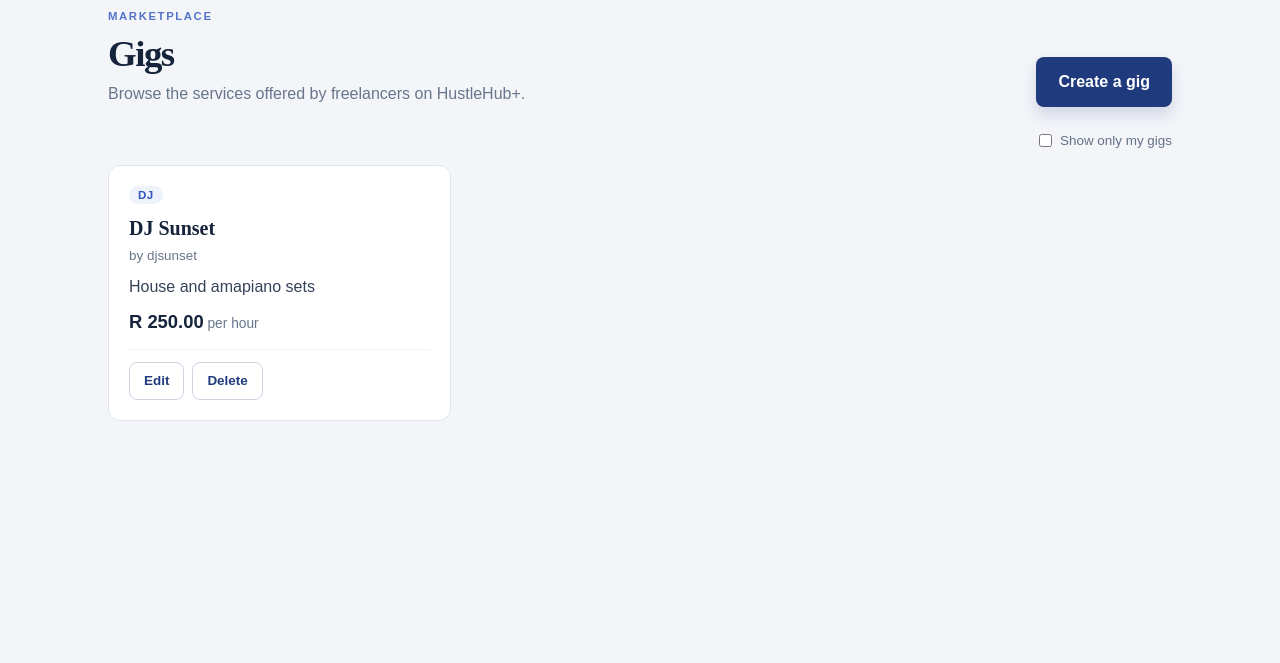
Test: GigsPage › edits a gig with every field the API requires
Click the button with aria-label "Edit DJ Sunset".
click(157, 381)  # box 129,362 -> 184,400
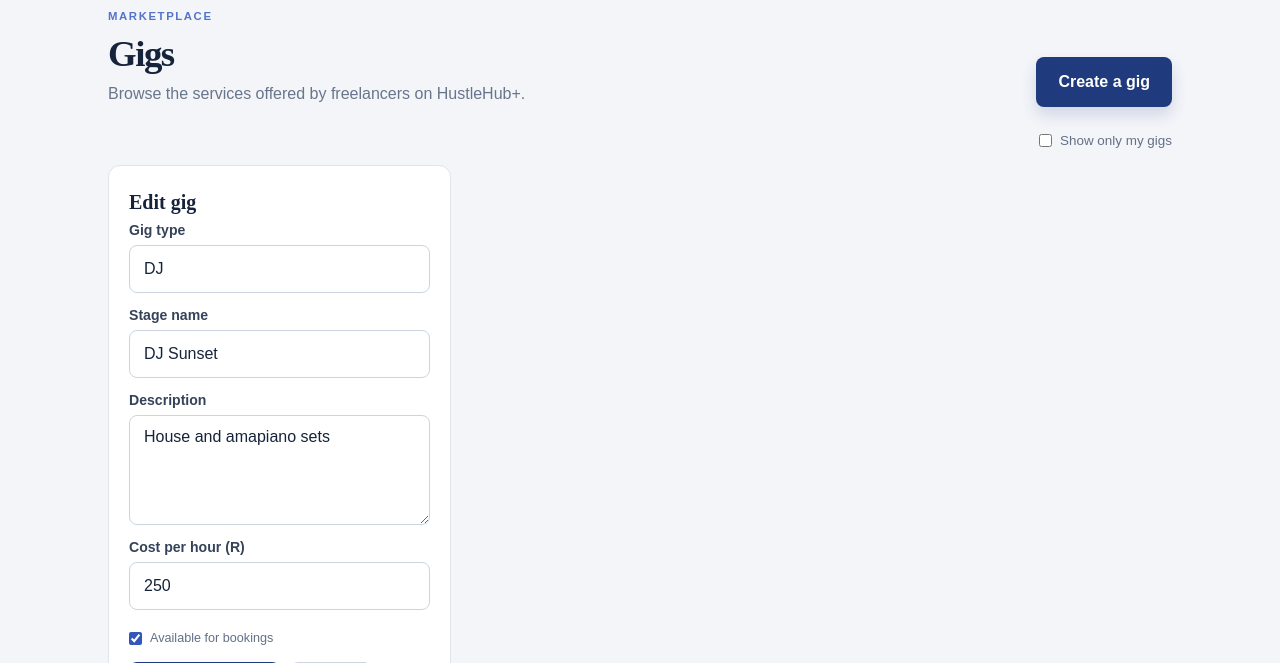
Expected: the field labelled "Stage name" holds "DJ Sunset"
Replace the text in the field labelled "Stage name" with "DJ Sunrise" at (279, 354), box 129,330 -> 430,378
(page scrolled)
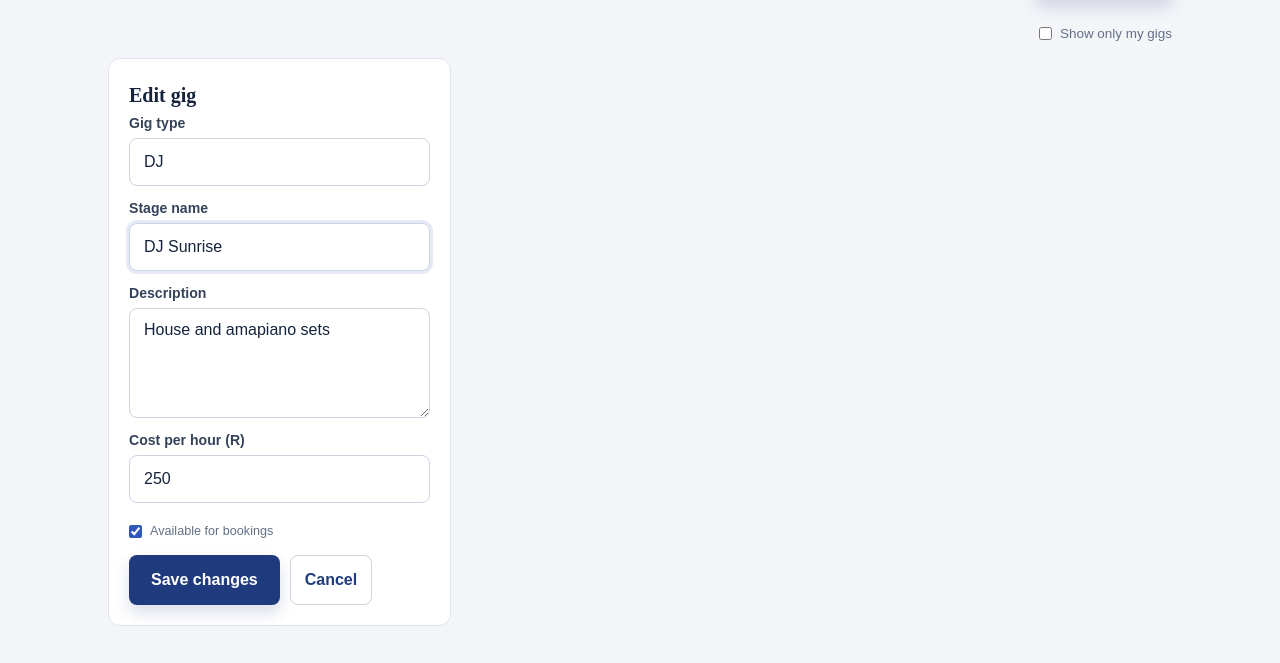
Click the button "Save changes".
click(204, 580)  # box 129,555 -> 280,605
(page scrolled)
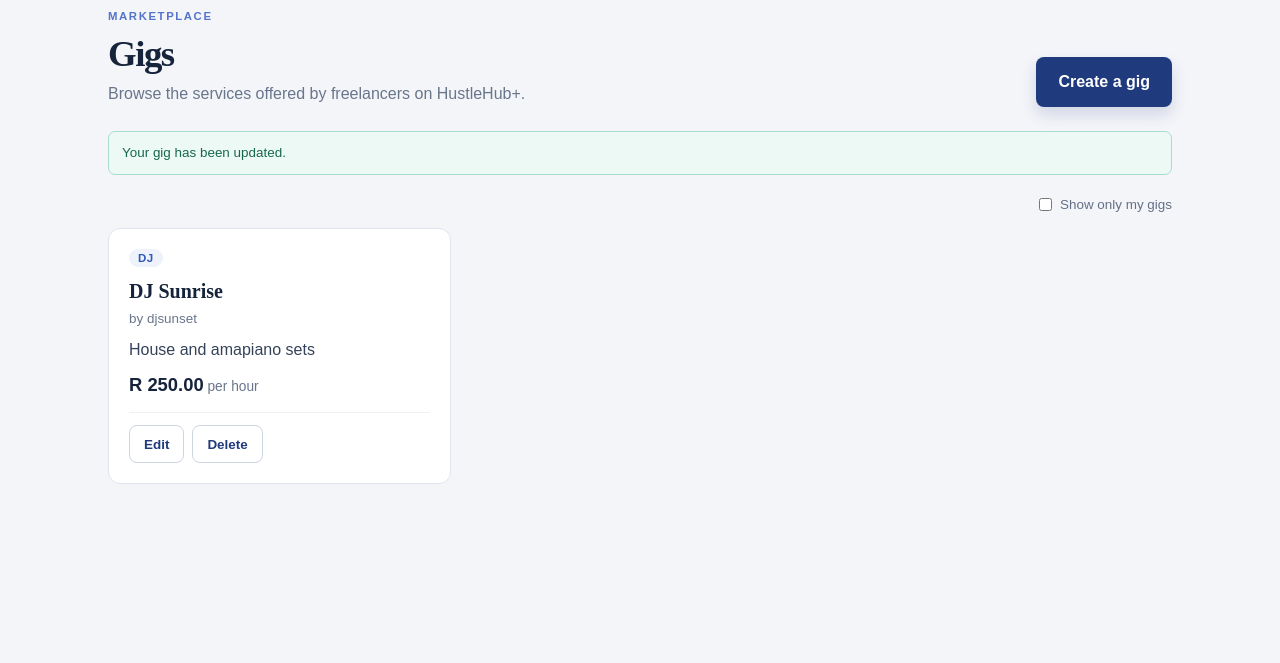
Expected: the text "Your gig has been updated." is shown, 108,131 -> 1172,175
Expected: the heading "DJ Sunrise" is shown, 129,280 -> 223,302
